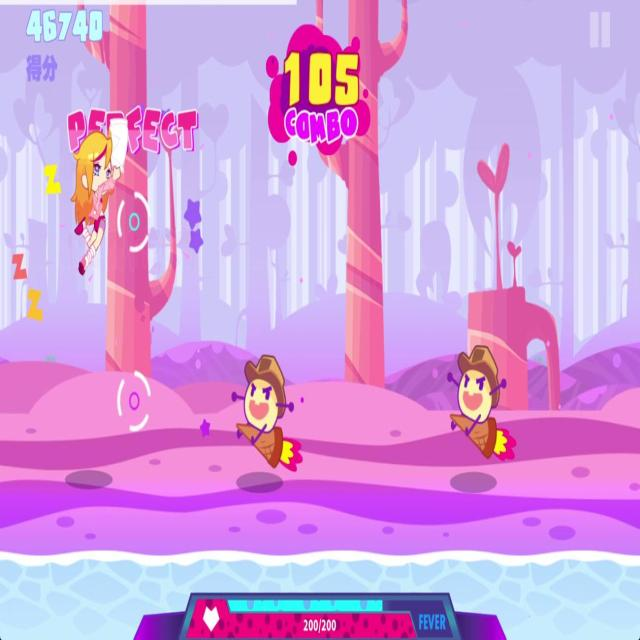qiu: (229, 350, 307, 480), (444, 334, 518, 469)
